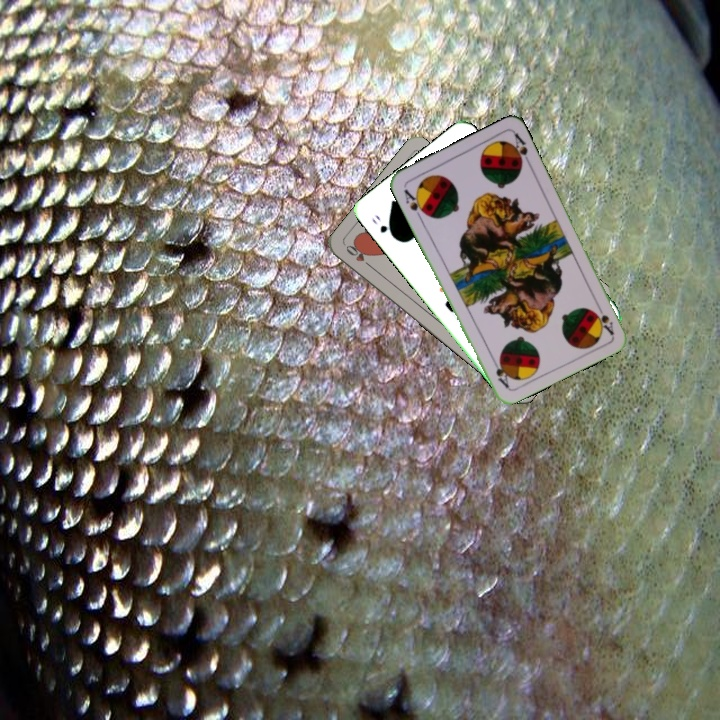GO: (368, 210, 398, 241)
HO: (342, 241, 376, 271)
SA: (400, 185, 429, 222), (590, 299, 616, 338)
